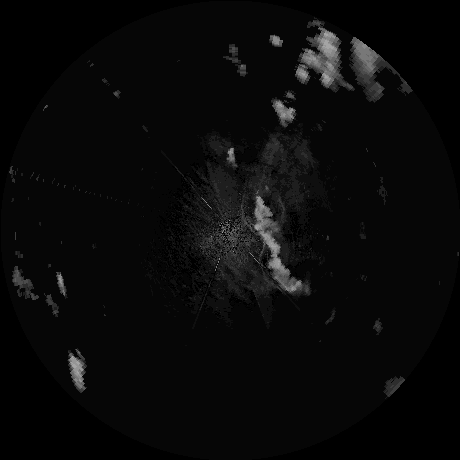frontgust: (258, 243, 285, 292), (238, 200, 261, 236), (274, 194, 287, 227)
